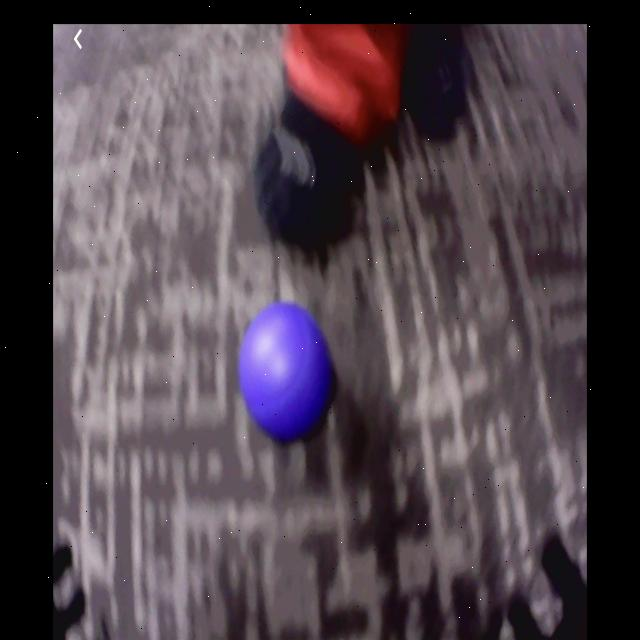ball: (232, 303, 331, 439)
